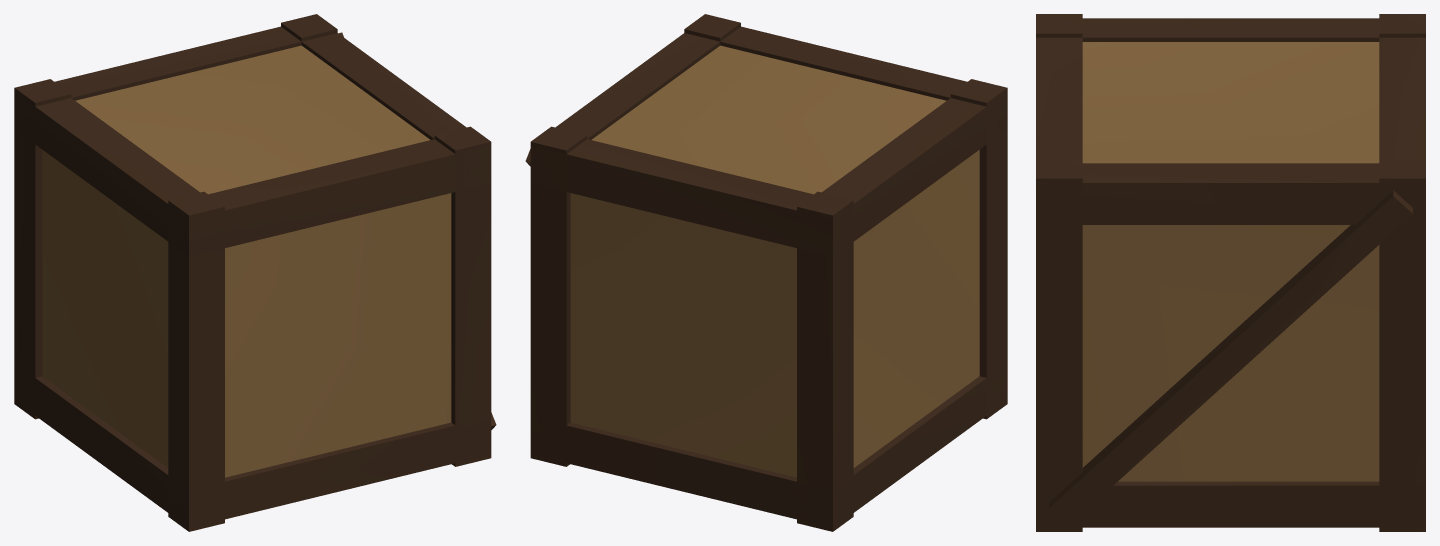
The model's file is crate.glb.
3 renders of one model, left to right at view 1: azimuth 30°, elevation 25°; view 2: azimuth 150°, elevation 25°; view 3: azimuth 270°, elevation 25°, orthographic. The views are drawn at different scales.
Visible parts, largest first — view 1: crate; view 2: crate; view 3: crate.
Boxes of the visible parts, x1,y1,x2,y2 form: crate: (14, 14, 496, 531); crate: (525, 14, 1007, 531); crate: (1036, 14, 1425, 531).
Bounding box in the file's own units: 0.87 × 0.84 × 0.84.
